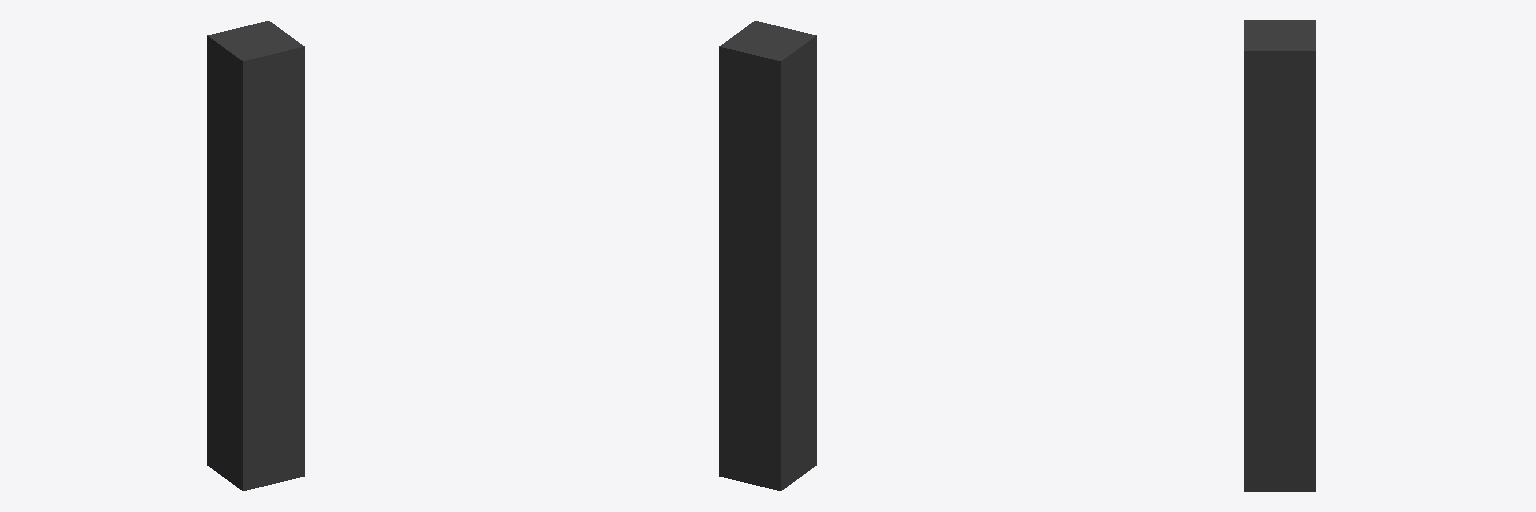
URDF robot description (box):
<?xml version='1.0' encoding='UTF-8'?>
<robot name="box">
  <link name="base_link">
    <inertial>
      <origin xyz="0.0 0.0 0.0" rpy="0.0 -0.0 0.0"/>
      <mass value="1.0"/>
      <inertia ixx="1.0" ixy="0.0" ixz="0.0" iyy="1.0" iyz="0.0" izz="1.0"/>
    </inertial>
    <visual name="base_link_visual">
      <geometry>
        <box size="0.3 0.3 2.0"/>
      </geometry>
      <material name="base_link_color">
        <color rgba="0.3 0.3 0.3 1"/>
      </material>
      <origin xyz="0 0 0" rpy="0 0 0"/>
    </visual>
    <collision name="base_link_collision">
      <geometry>
        <box size="0.3 0.3 2.0"/>
      </geometry>
      <origin xyz="0 0 0" rpy="0 0 0"/>
    </collision>
  </link>
</robot>

--- Facts derived from the render (not from the file) ---
Views: 3 orthographic renders of the robot side by side, from view 1: azimuth 30°, elevation 25°; view 2: azimuth 150°, elevation 25°; view 3: azimuth 270°, elevation 25°.
Robot: box — 1 links, 0 joints (none); root link base_link; default pose: every joint at zero.
Links seen in each view (by area): view 1: base_link; view 2: base_link; view 3: base_link.
Boxes of the visible links, left/top/right/bottom form: base_link: left=207, top=21, right=304, bottom=490; base_link: left=719, top=21, right=816, bottom=490; base_link: left=1244, top=20, right=1315, bottom=491.
Bounding box of the posed robot: 0.3 × 0.3 × 2 m (x, y, z).
Geometry: primitives only (box / cylinder / sphere), no mesh files.